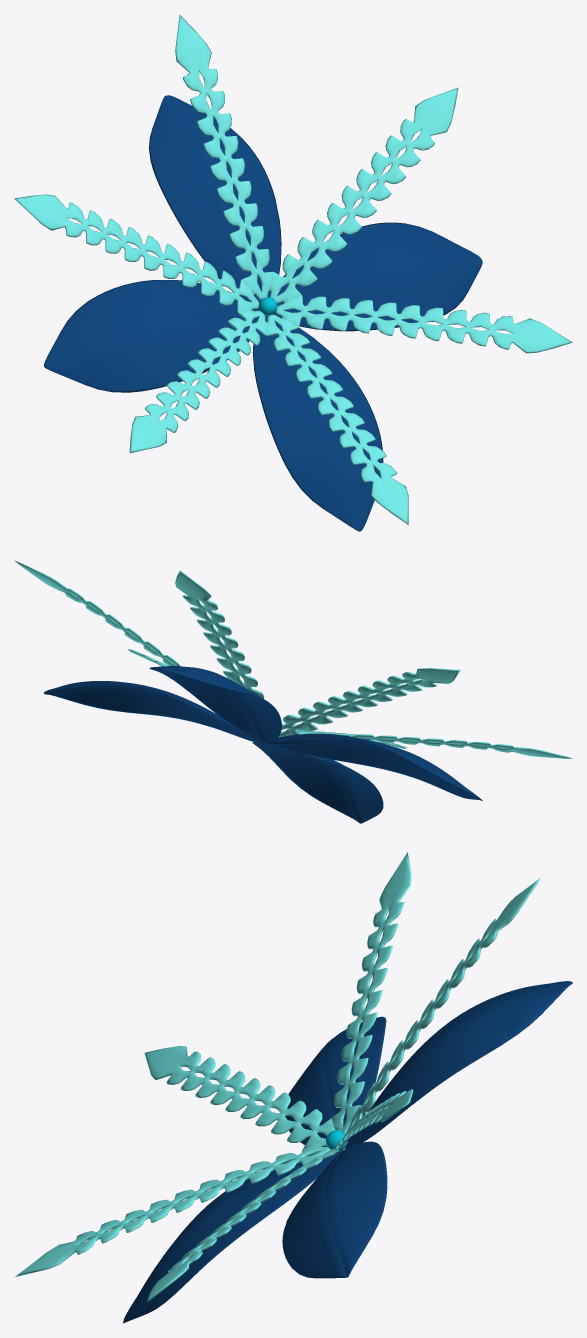
Rendered from Flor De Gelo.fbx.
3 renders of one model, top to bottom at view 1: azimuth 30°, elevation 25°; view 2: azimuth 150°, elevation 25°; view 3: azimuth 270°, elevation 25°, orthographic. The views are drawn at different scales.
Parts seen in each view (by area): view 1: Flor de Gelo - Low; view 2: Flor de Gelo - Low; view 3: Flor de Gelo - Low.
Boxes of the visible parts, <box> form: Flor de Gelo - Low: <box>14,15,572,531</box>; Flor de Gelo - Low: <box>14,560,572,823</box>; Flor de Gelo - Low: <box>14,852,572,1323</box>.
Bounding box in the file's own units: 162 × 134 × 152.
